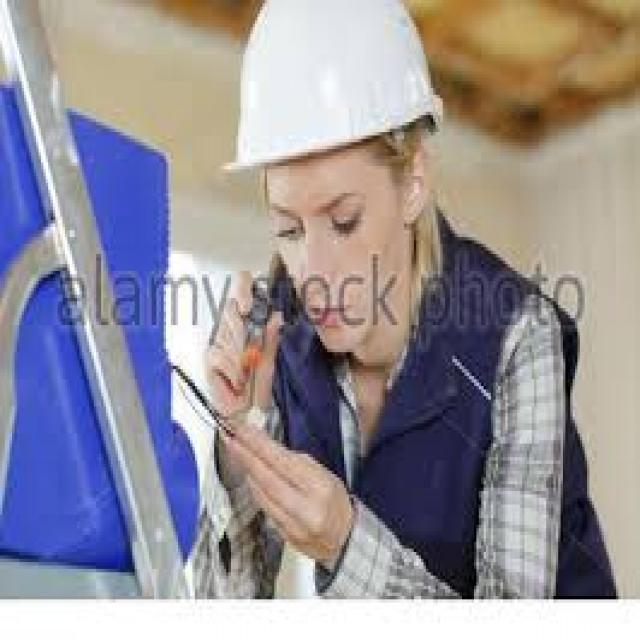screwdriver: (217, 269, 270, 445)
